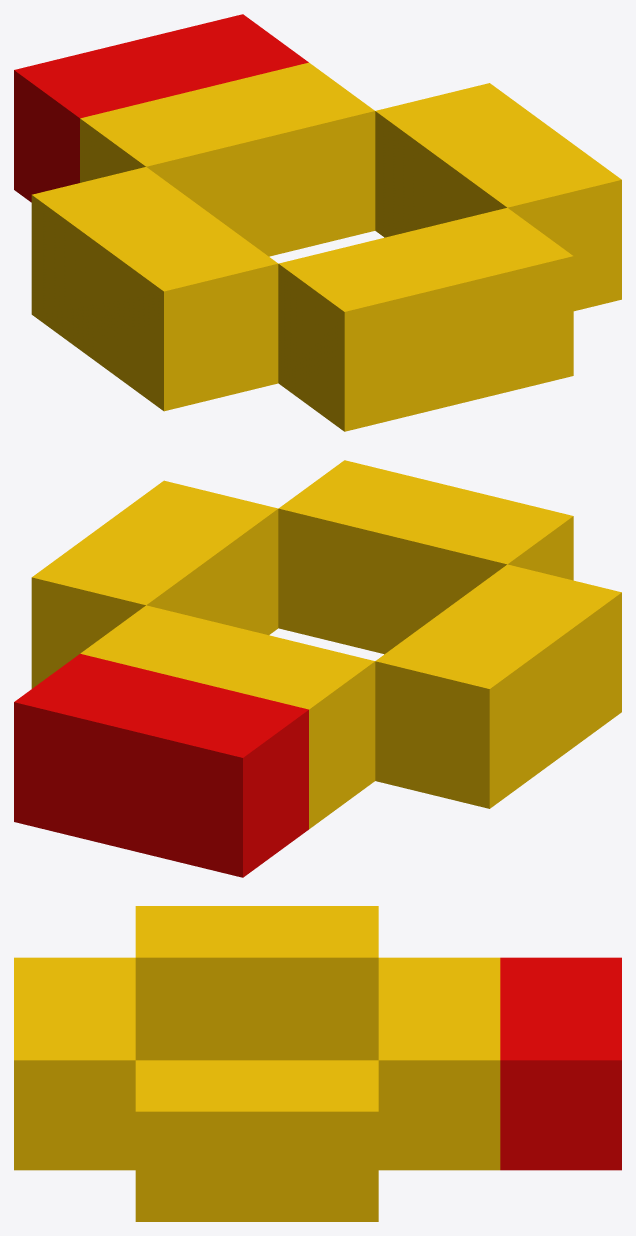
The model's file is Ring.obj.
The picture shows the model from 3 angles, top to bottom: view 1: azimuth 30°, elevation 25°; view 2: azimuth 150°, elevation 25°; view 3: azimuth 270°, elevation 25°; orthographic projection. The views are drawn at different scales.
Parts seen in each view (by area): view 1: Ring; view 2: Ring; view 3: Ring.
Boxes of the visible parts, left/top/right/bottom form: Ring: left=14, top=14, right=621, bottom=431; Ring: left=14, top=460, right=621, bottom=877; Ring: left=14, top=906, right=621, bottom=1221.
Size of the model in its own units: 4 by 1 by 5.
1 material, 1 textured.
